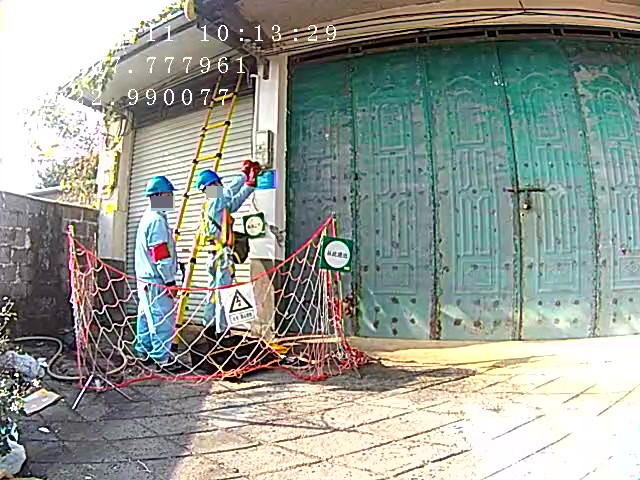badge: (147, 241, 175, 263)
downsuit: (142, 287, 181, 357), (205, 251, 238, 332)
glove: (249, 162, 260, 187), (242, 161, 251, 175)
halt: (144, 176, 177, 211), (197, 170, 224, 196)
inear: (151, 193, 161, 205)
person: (193, 168, 251, 347), (135, 172, 188, 365)
upsuit: (140, 209, 181, 283), (201, 201, 237, 252)
